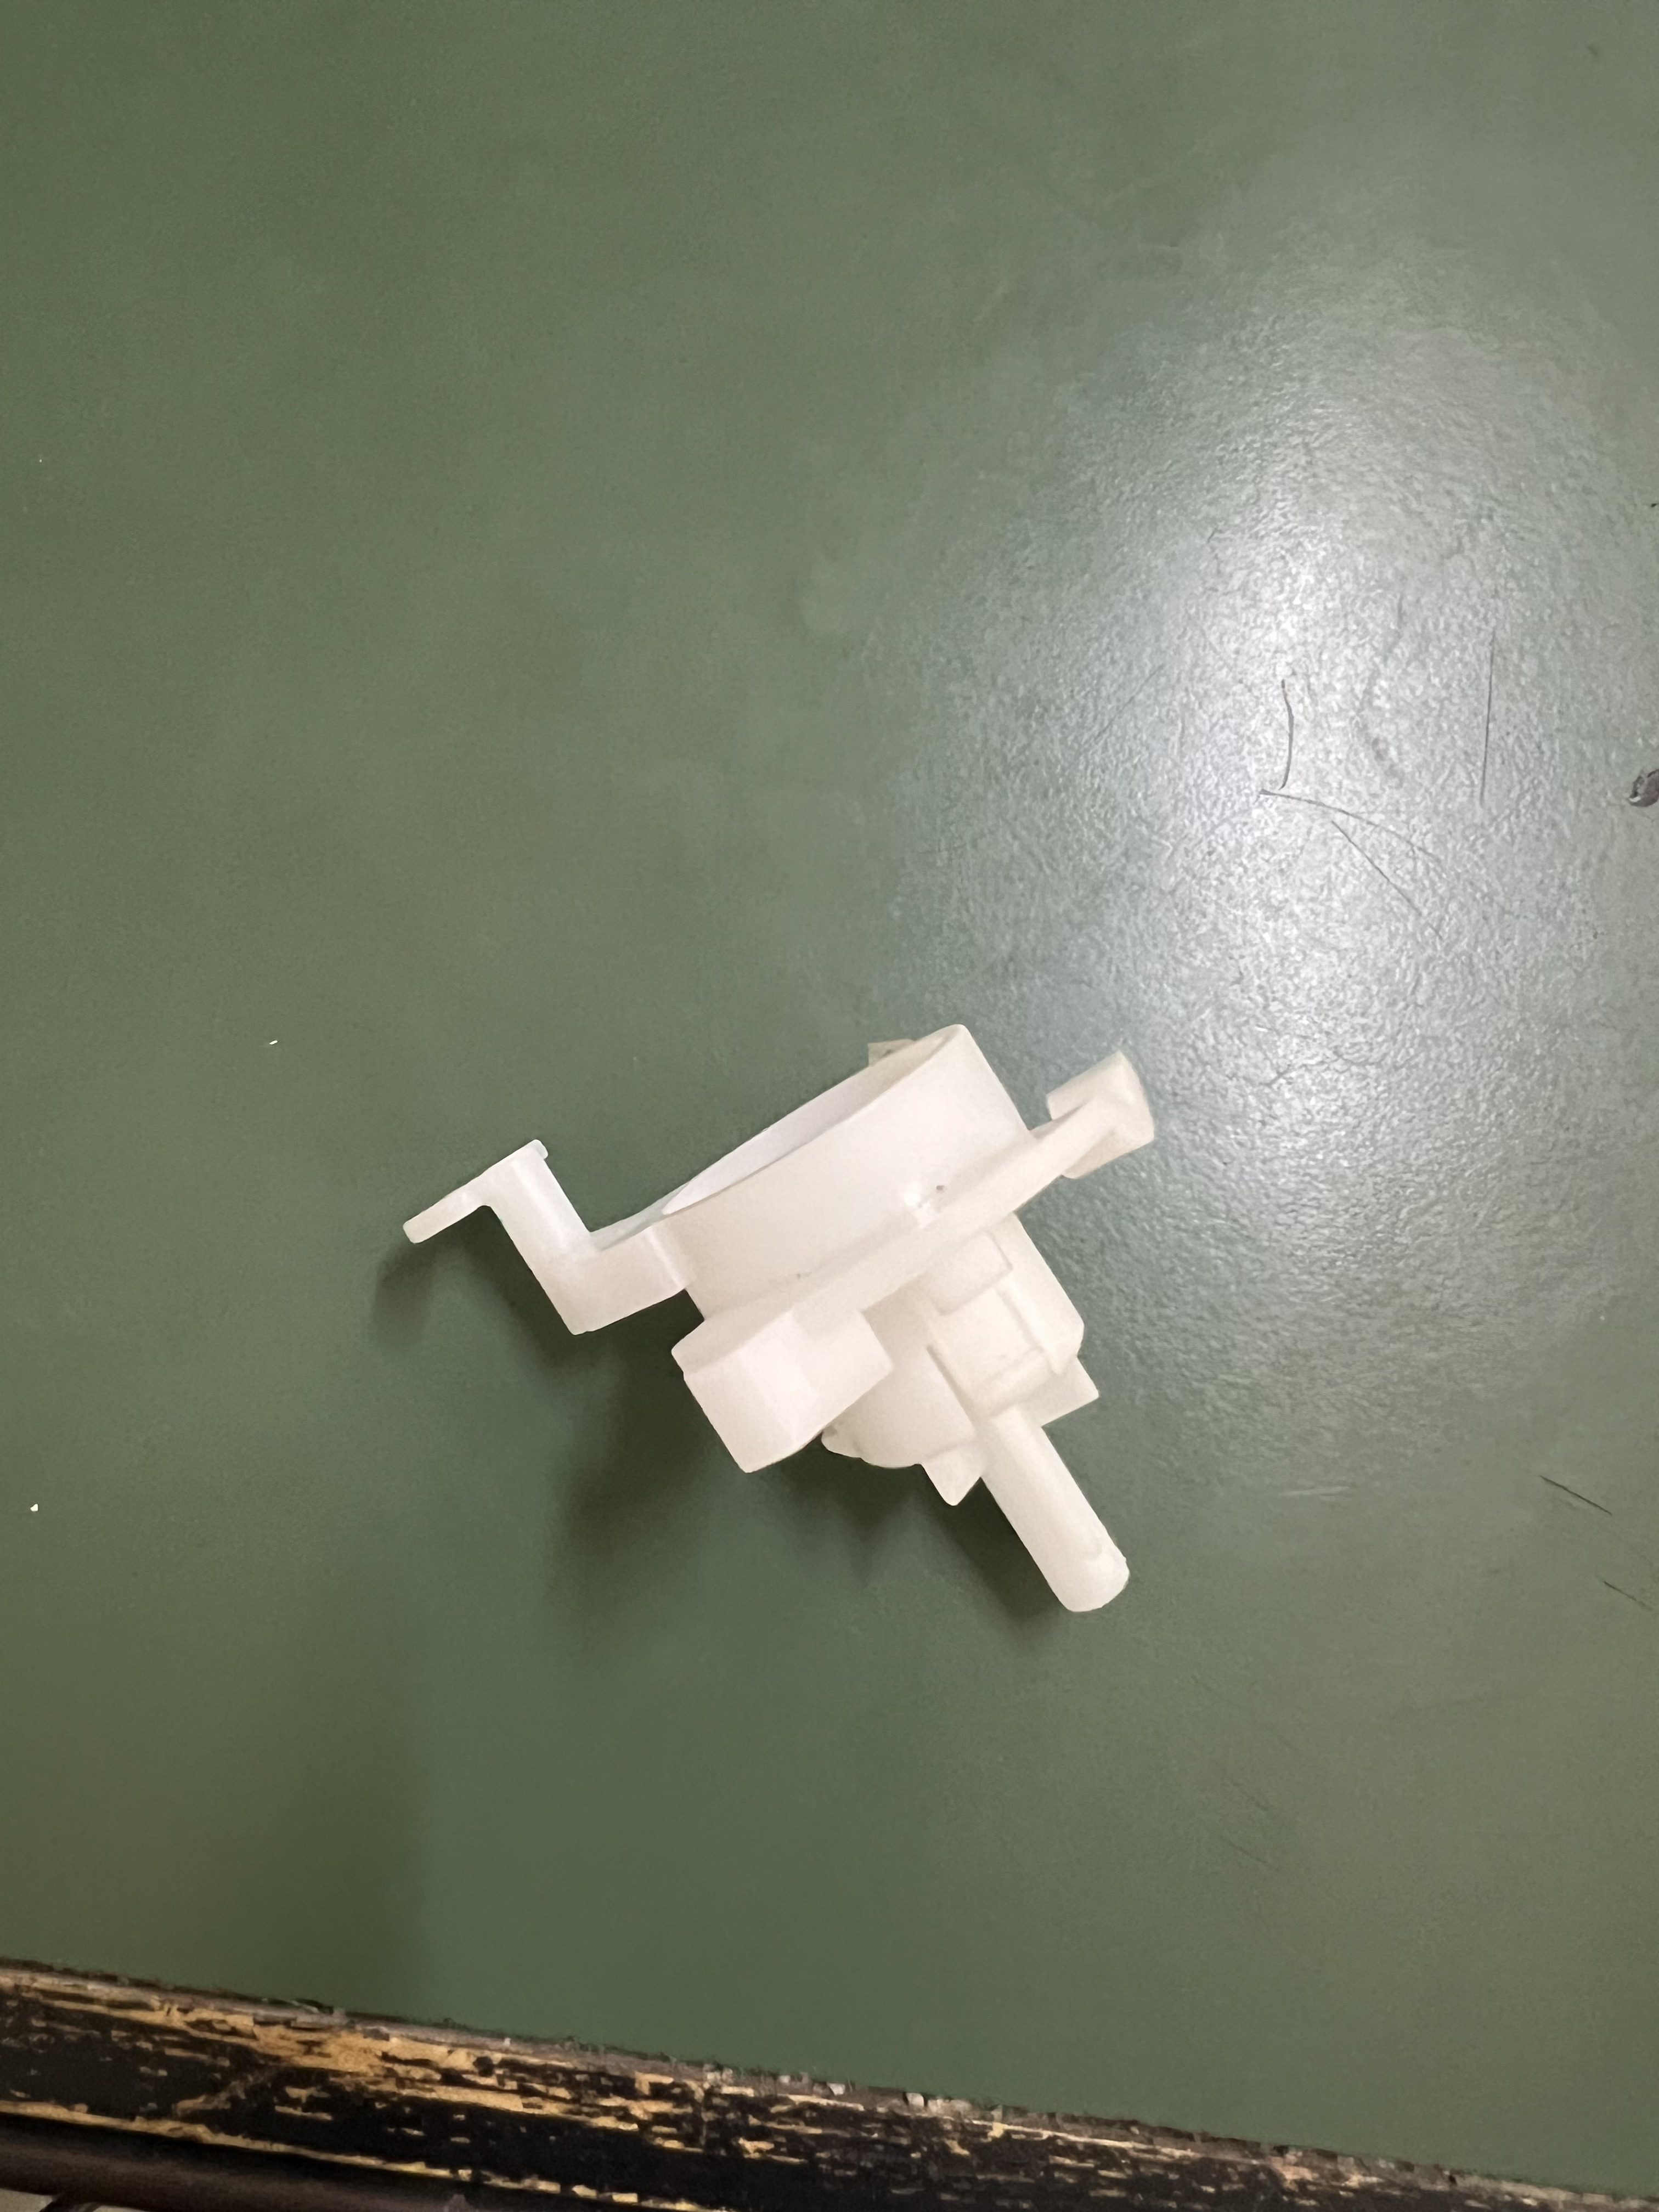drain_lever: (338, 1000, 1206, 1674)
